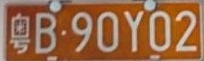B: (36, 13, 56, 53)
